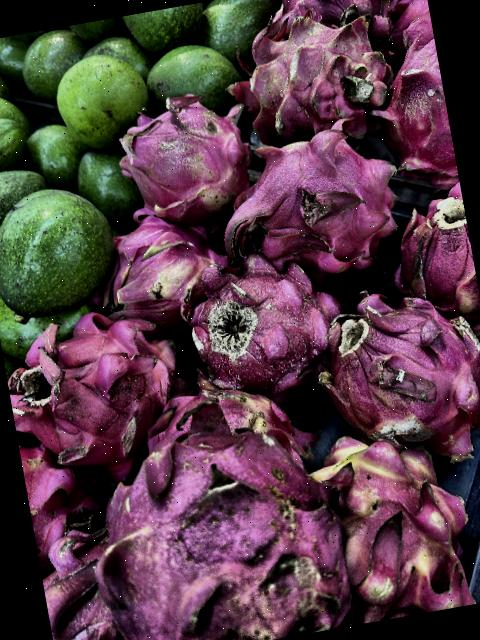buah-naga-belum-matang: (309, 411, 480, 627), (222, 0, 393, 147), (385, 176, 480, 330), (101, 208, 226, 324), (146, 370, 302, 460)
buah-naga-matang: (73, 395, 364, 640), (0, 290, 188, 471), (219, 118, 406, 286), (321, 281, 480, 476), (170, 245, 347, 392), (113, 94, 256, 231), (370, 28, 459, 188), (18, 433, 97, 556), (36, 535, 116, 640), (276, 0, 394, 45)
